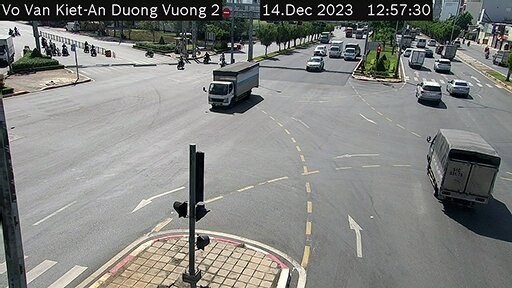car: (417, 80, 441, 103), (446, 76, 470, 94), (435, 57, 453, 74), (309, 42, 325, 56), (309, 55, 322, 72), (344, 46, 357, 62), (327, 45, 339, 58)
truck: (425, 129, 496, 208), (205, 48, 267, 114), (410, 48, 423, 71)
